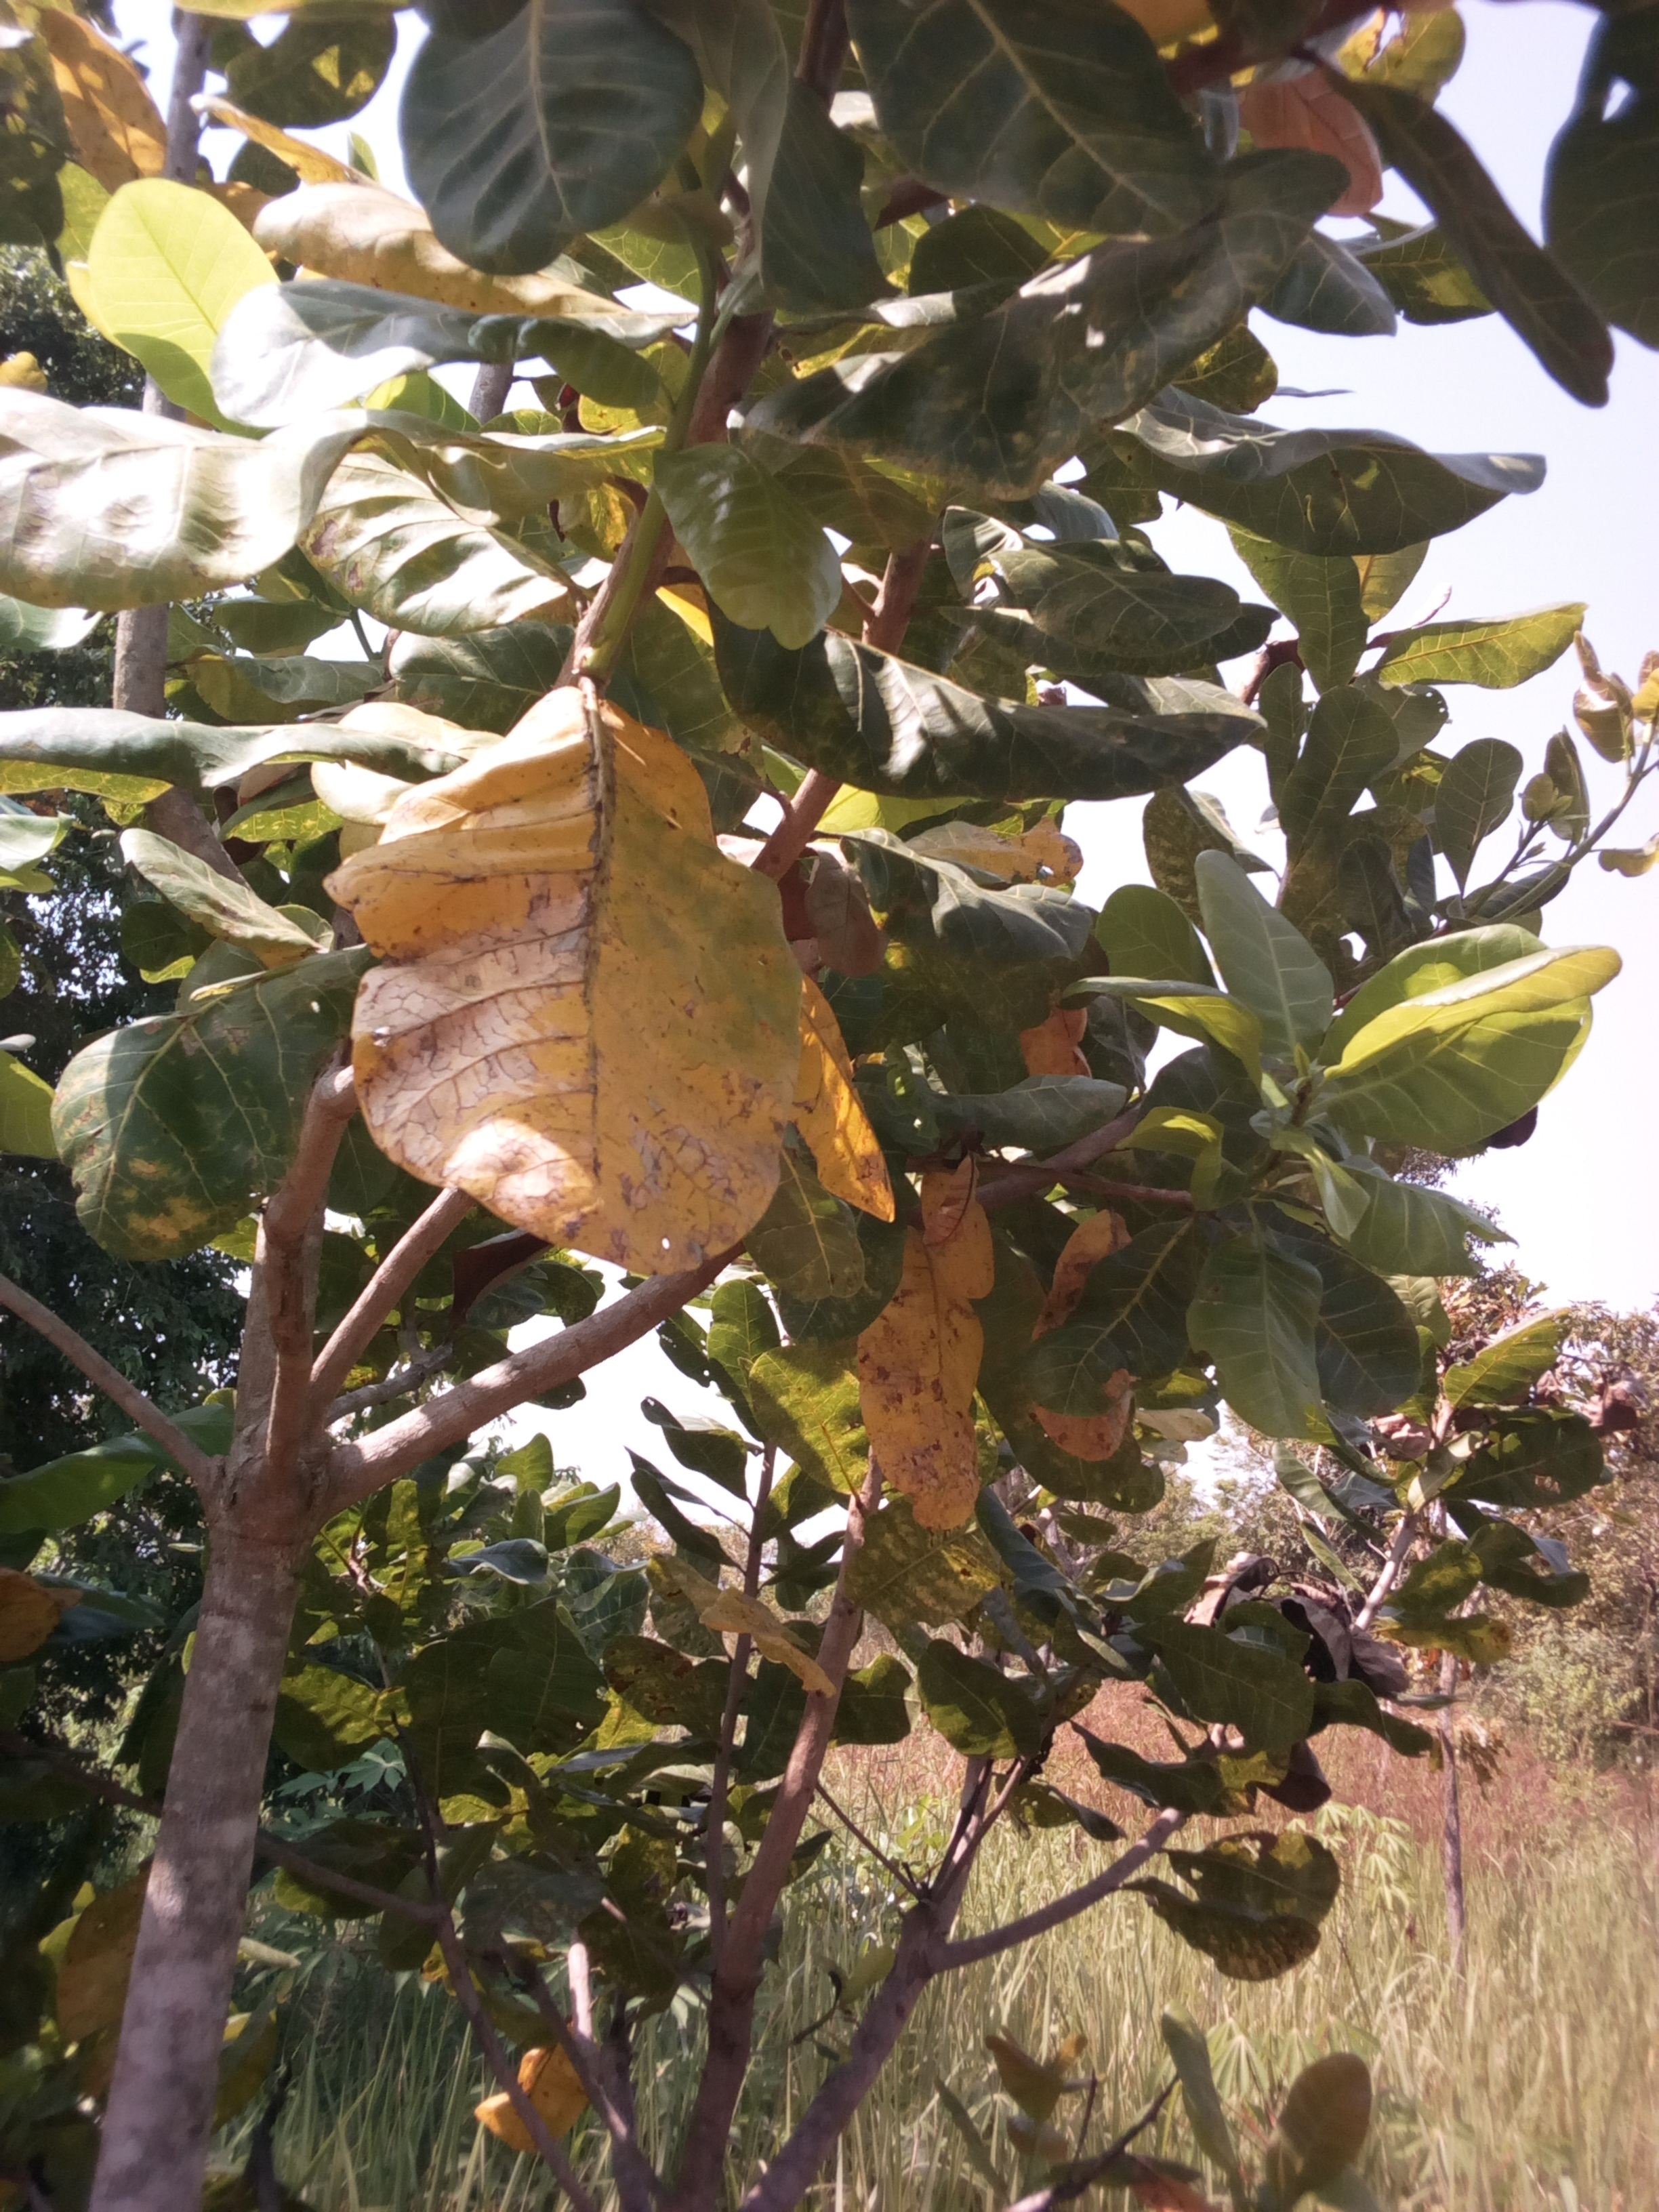Anthracnose: (352, 697, 816, 1282), (850, 1167, 1009, 1557)
